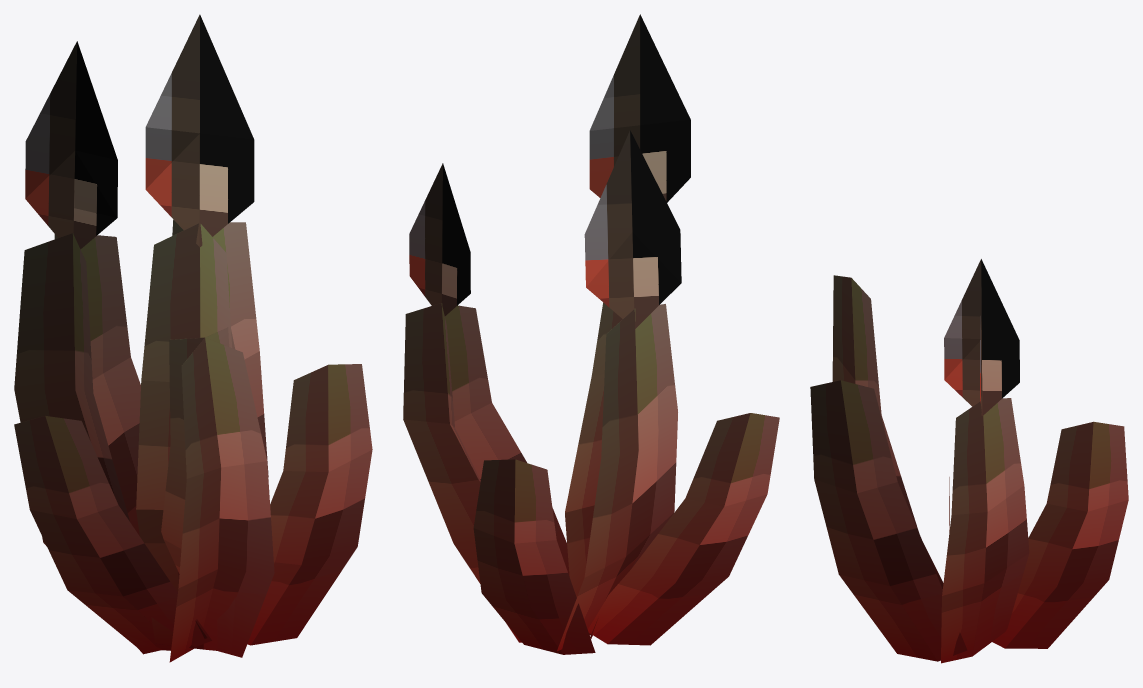
Rendered from synty-plant-purpleflower-01.gltf.
3 renders of one model, left to right at view 1: azimuth 30°, elevation 25°; view 2: azimuth 150°, elevation 25°; view 3: azimuth 270°, elevation 25°, orthographic. The views are drawn at different scales.
Visible parts, largest first — view 1: SM_Plant_PurpleFlower_01; view 2: SM_Plant_PurpleFlower_01; view 3: SM_Plant_PurpleFlower_01.
Boxes of the visible parts, x1,y1,x2,y2 form: SM_Plant_PurpleFlower_01: [14, 14, 372, 662]; SM_Plant_PurpleFlower_01: [403, 14, 779, 654]; SM_Plant_PurpleFlower_01: [810, 259, 1128, 663].
Size of the model in its own units: 0.6276 by 1.08 by 0.5049.
1 material, 1 textured.
